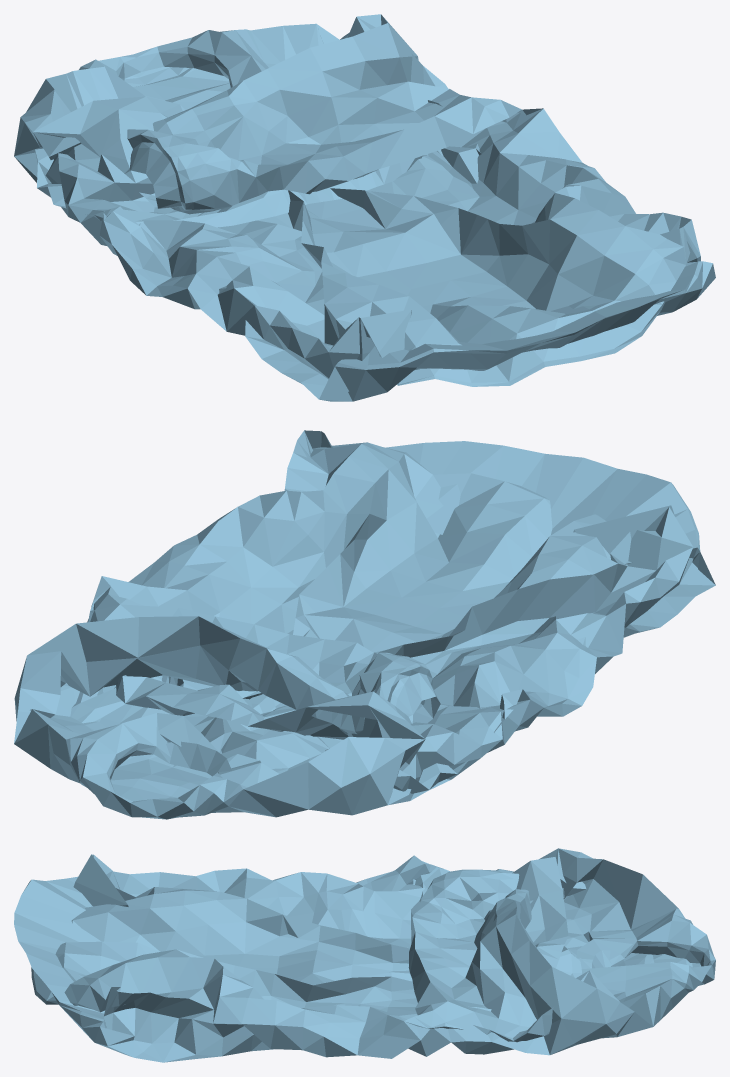
The model's file is frame_01.glb.
3 views of the same model, one above another, from view 1: azimuth 30°, elevation 25°; view 2: azimuth 150°, elevation 25°; view 3: azimuth 270°, elevation 25° (orthographic). The views are drawn at different scales.
Parts seen in each view (by area): view 1: frame_01.obj; view 2: frame_01.obj; view 3: frame_01.obj.
Part boxes in pixels (left/top/right/bottom): frame_01.obj: left=14, top=14, right=715, bottom=401; frame_01.obj: left=14, top=430, right=715, bottom=819; frame_01.obj: left=14, top=848, right=715, bottom=1062.
Size of the model in its own units: 1.05 by 0.285 by 1.74.
